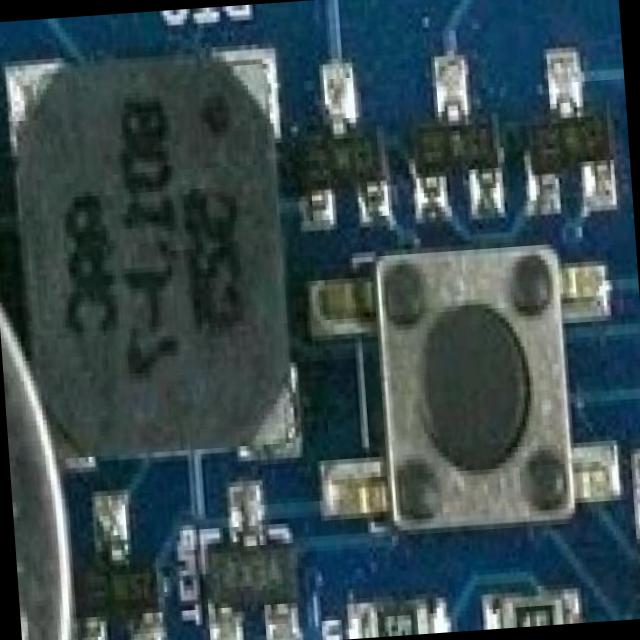transistor: (394, 84, 508, 222), (510, 76, 622, 214), (197, 514, 311, 640), (288, 93, 390, 221), (66, 520, 174, 640)
